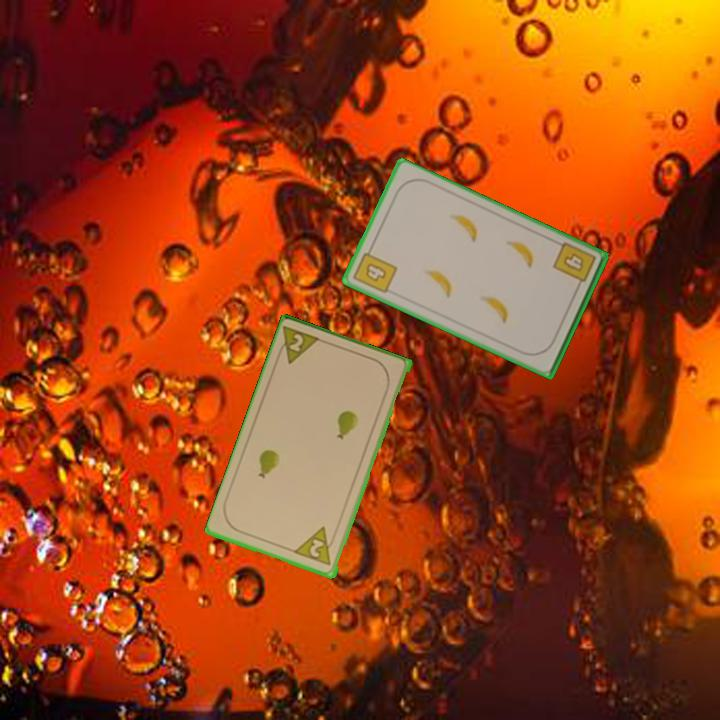2p: (273, 323, 325, 368), (292, 524, 339, 569)
4b: (549, 238, 599, 293), (350, 243, 400, 296)
